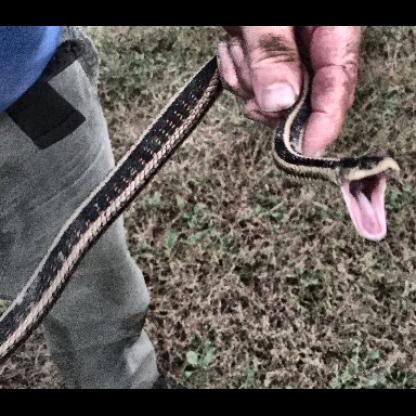Snake: (133, 43, 252, 179), (265, 130, 404, 244)
